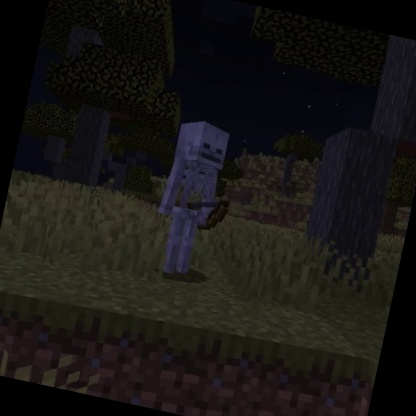skeleton: (140, 111, 249, 288)
